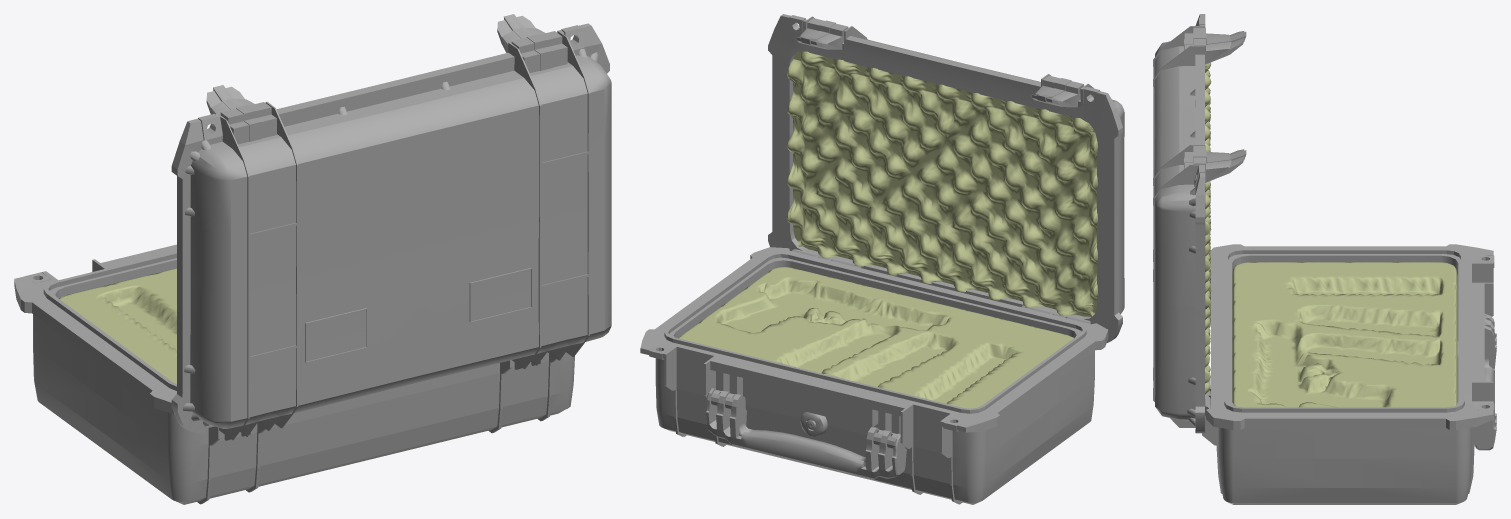
The model's file is pelicancase_gun_opened.fbx.
3 renders of one model, left to right at view 1: azimuth 30°, elevation 25°; view 2: azimuth 150°, elevation 25°; view 3: azimuth 270°, elevation 25°, orthographic. The views are drawn at different scales.
Visible parts, largest first — view 1: pelican_case_texturedq1_hinge_low1; view 2: pelican_case_texturedq1_hinge_low1; view 3: pelican_case_texturedq1_hinge_low1.
Boxes of the visible parts, box(x1,y1,x2,y2) form: pelican_case_texturedq1_hinge_low1: box(14, 14, 611, 504); pelican_case_texturedq1_hinge_low1: box(640, 14, 1124, 504); pelican_case_texturedq1_hinge_low1: box(1153, 14, 1496, 504).
Size of the model in its own units: 0.7652 by 0.6842 by 0.6297.
